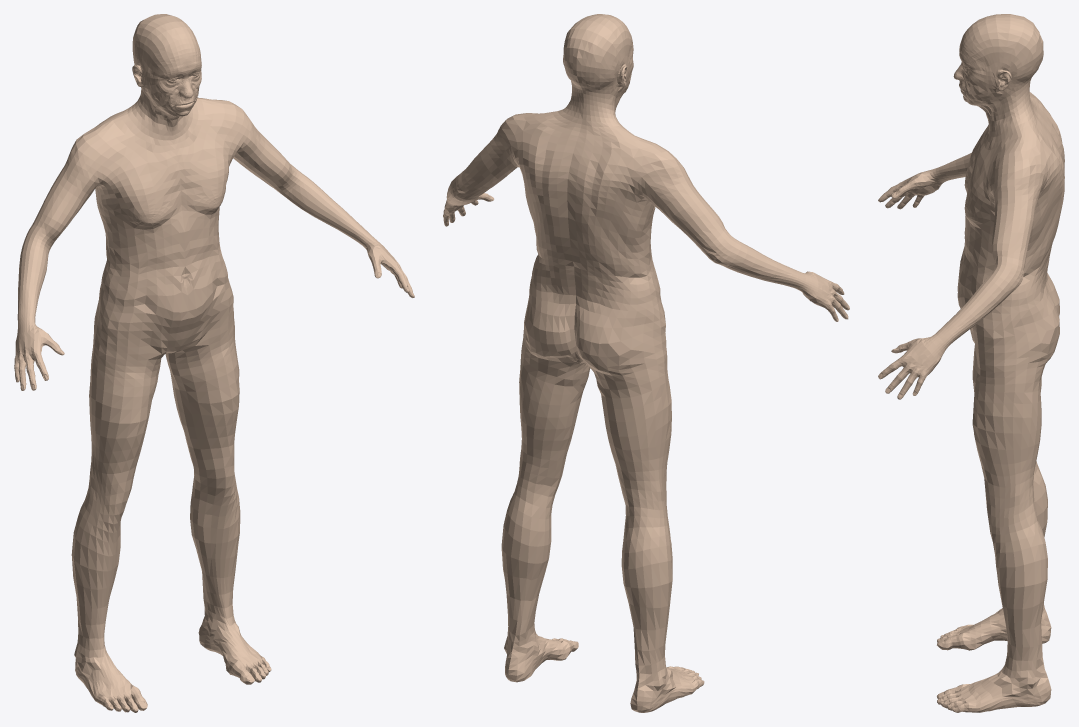
Rendered from male-elder-average-strong.glb.
3 views of the same model, side by side, from view 1: azimuth 30°, elevation 25°; view 2: azimuth 150°, elevation 25°; view 3: azimuth 270°, elevation 25° (orthographic).
Visible parts, largest first — view 1: world; view 2: world; view 3: world.
Part boxes in pixels (left/top/right/bottom): world: left=14, top=14, right=414, bottom=712; world: left=443, top=14, right=849, bottom=712; world: left=878, top=14, right=1064, bottom=712.
Size of the model in its own units: 1.2 by 1.92 by 0.4945.
